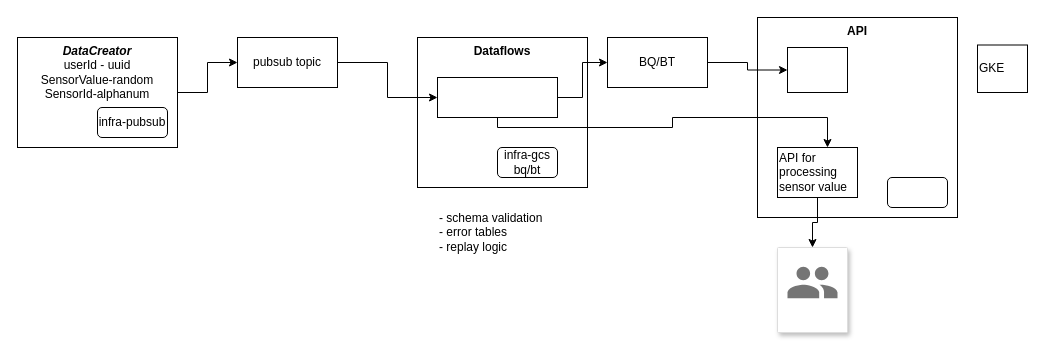
Image size: 1045x357. Some labels were removed from this diagram. The shapes that lost their labels are listed below. From the top down, each one's centre as x and y in pixels, then its label:
At point (817, 69): "Data API".
At point (497, 97): "Dataflow Pipeline".
At point (917, 192): "infra-gke".
At point (813, 291): "Users".
